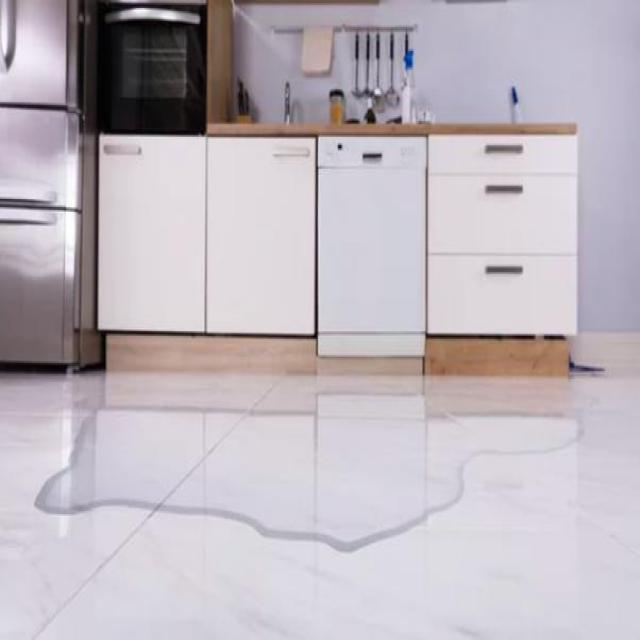dishwasher: (314, 130, 430, 360)
